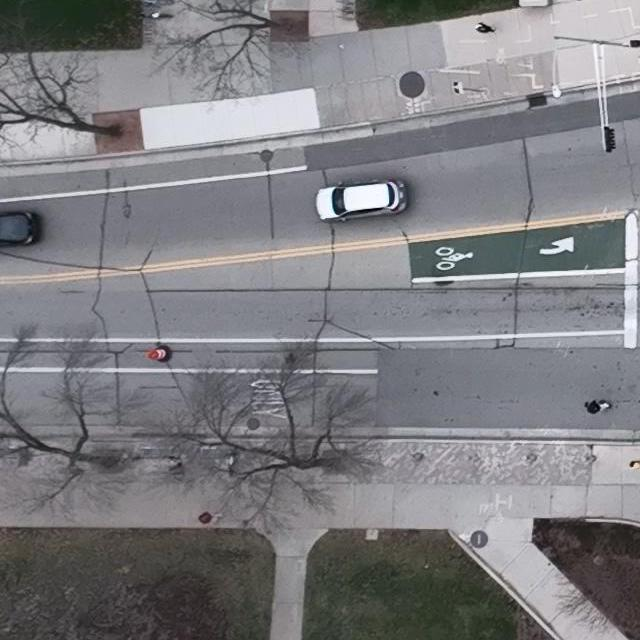car: (314, 178, 409, 224), (0, 208, 37, 247)
